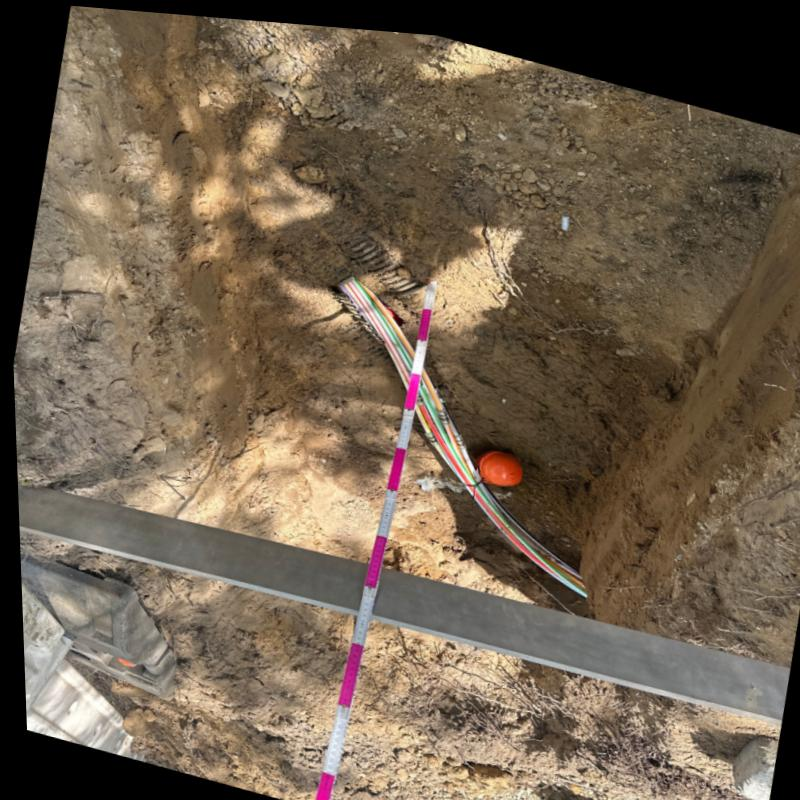Kugelmarker: (474, 442, 519, 476)
